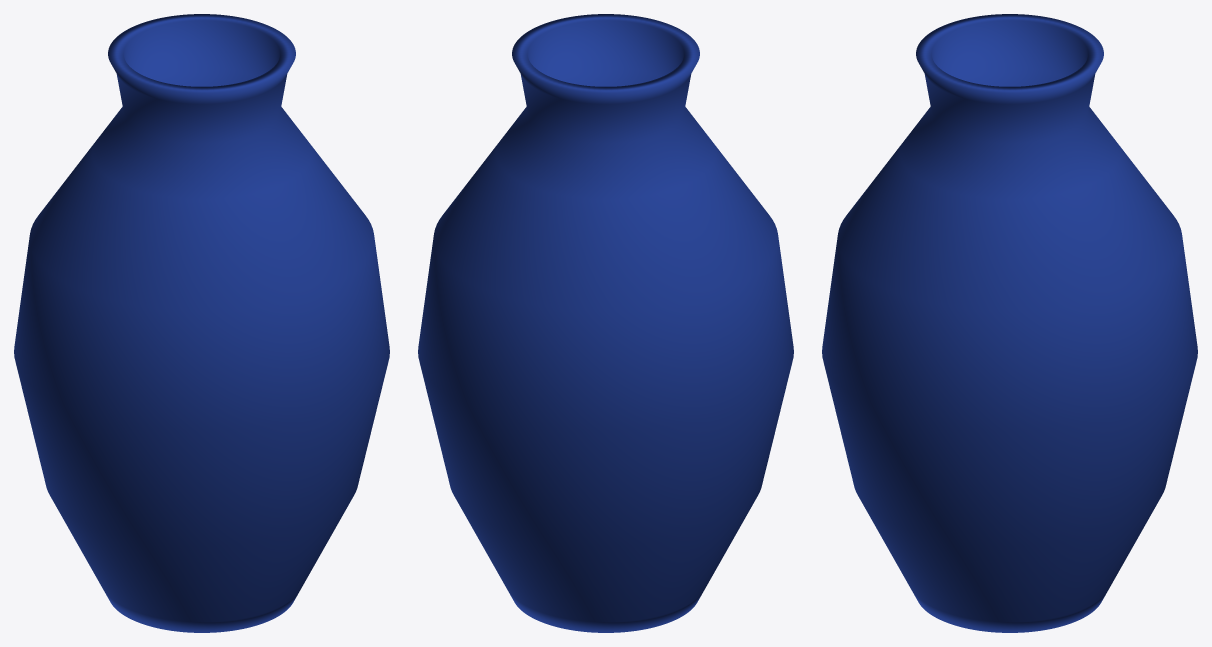
The model's file is vaso-anfora.glb.
3 views of the same model, side by side, from view 1: azimuth 30°, elevation 25°; view 2: azimuth 150°, elevation 25°; view 3: azimuth 270°, elevation 25° (orthographic).
Visible parts, largest first — view 1: vaso-anfora; view 2: vaso-anfora; view 3: vaso-anfora.
Boxes of the visible parts, x1,y1,x2,y2 form: vaso-anfora: (14, 14, 389, 632); vaso-anfora: (418, 14, 793, 632); vaso-anfora: (822, 14, 1197, 632).
Bounding box in the file's own units: 0.24 × 0.38 × 0.24.
